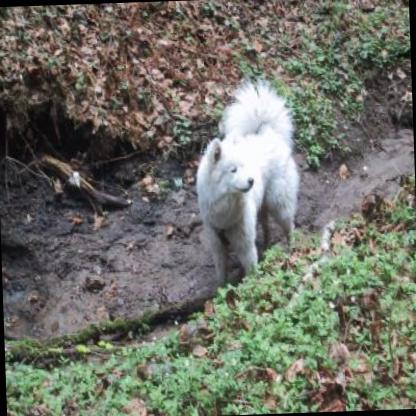Samoyed: (193, 76, 305, 296)
